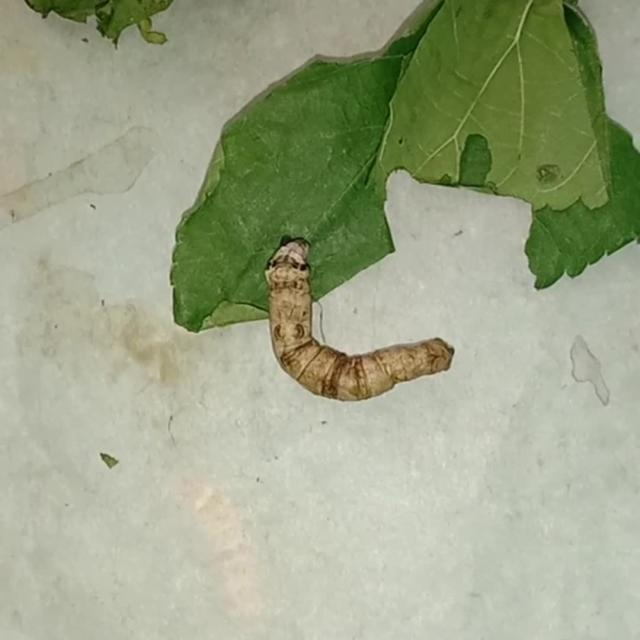Grasserie: (255, 229, 462, 409)
